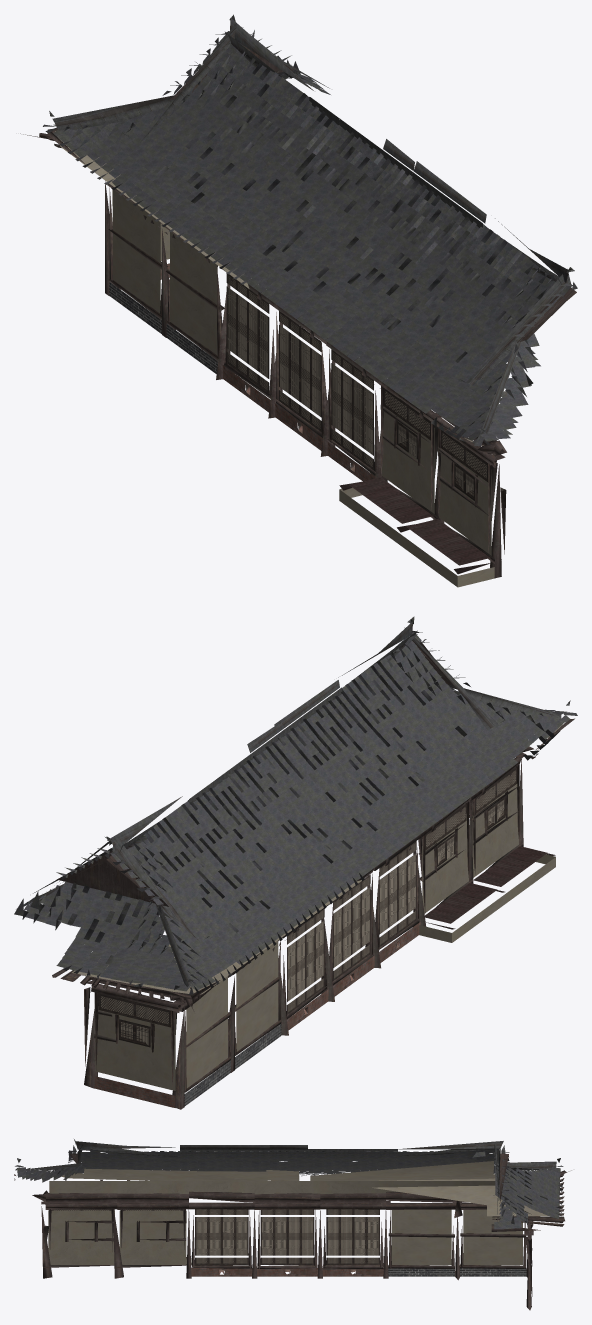
File: TruongHocLow7.fbx
3 views of the same model, one above another, from view 1: azimuth 30°, elevation 25°; view 2: azimuth 150°, elevation 25°; view 3: azimuth 270°, elevation 25° (orthographic). The views are drawn at different scales.
Visible parts, largest first — view 1: Folk_Education_Hall; view 2: Folk_Education_Hall; view 3: Folk_Education_Hall.
Part boxes in pixels (box(x1,y1,x2,y2)): Folk_Education_Hall: box(20, 14, 577, 587); Folk_Education_Hall: box(14, 616, 577, 1109); Folk_Education_Hall: box(14, 1139, 571, 1310).
Size of the model in its own units: 882 by 892 by 2697.
